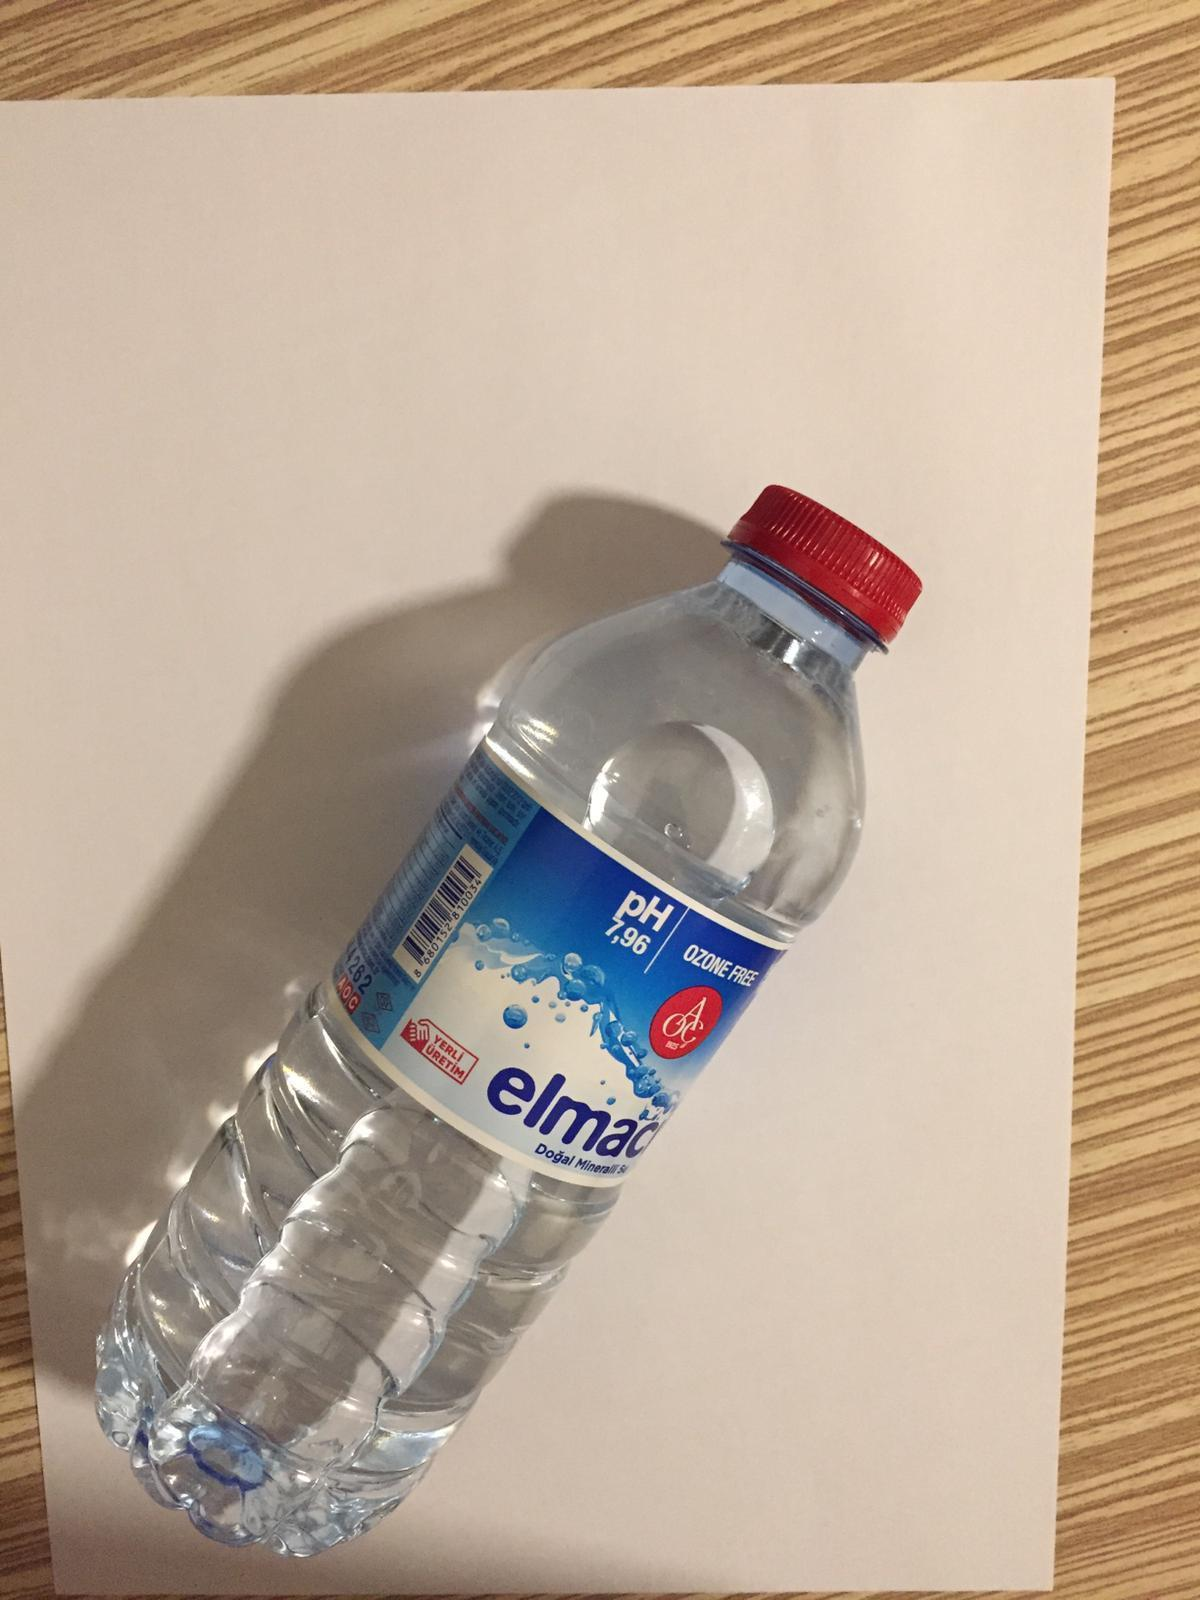bottle: (101, 481, 930, 1553)
